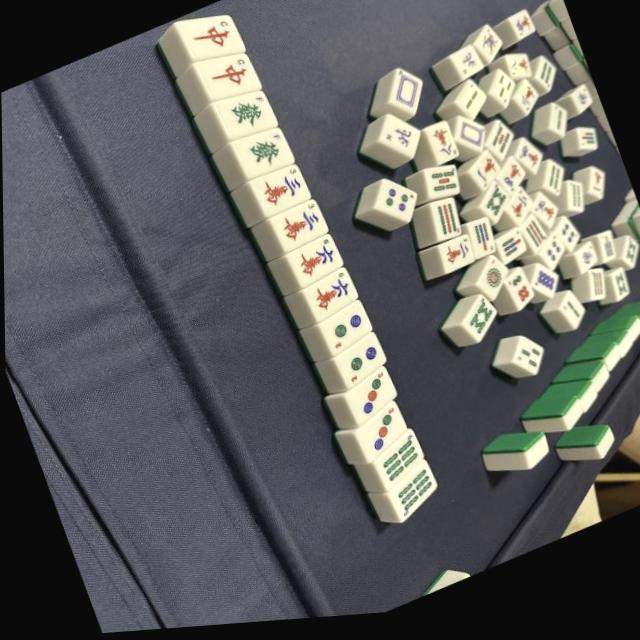hdg: (238, 131, 292, 184), (220, 92, 274, 144)
hdr: (184, 16, 239, 65), (202, 56, 256, 105)
sb6: (382, 471, 439, 527), (370, 437, 426, 492)
sc3: (252, 168, 308, 221), (270, 204, 326, 256)
sc6: (288, 240, 341, 289), (305, 273, 357, 322)
sd2: (318, 309, 370, 359), (332, 341, 384, 390)
sd3: (355, 409, 407, 462), (345, 375, 395, 426)
